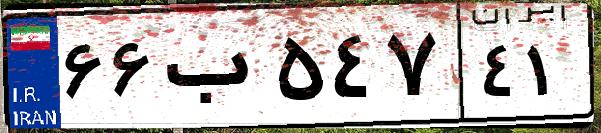1: (525, 38, 570, 115)
4: (330, 28, 385, 110), (475, 38, 525, 113)
5: (270, 28, 330, 110)
6: (57, 26, 110, 100), (110, 28, 158, 98)
7: (385, 28, 445, 110)
ب: (158, 20, 270, 120)
